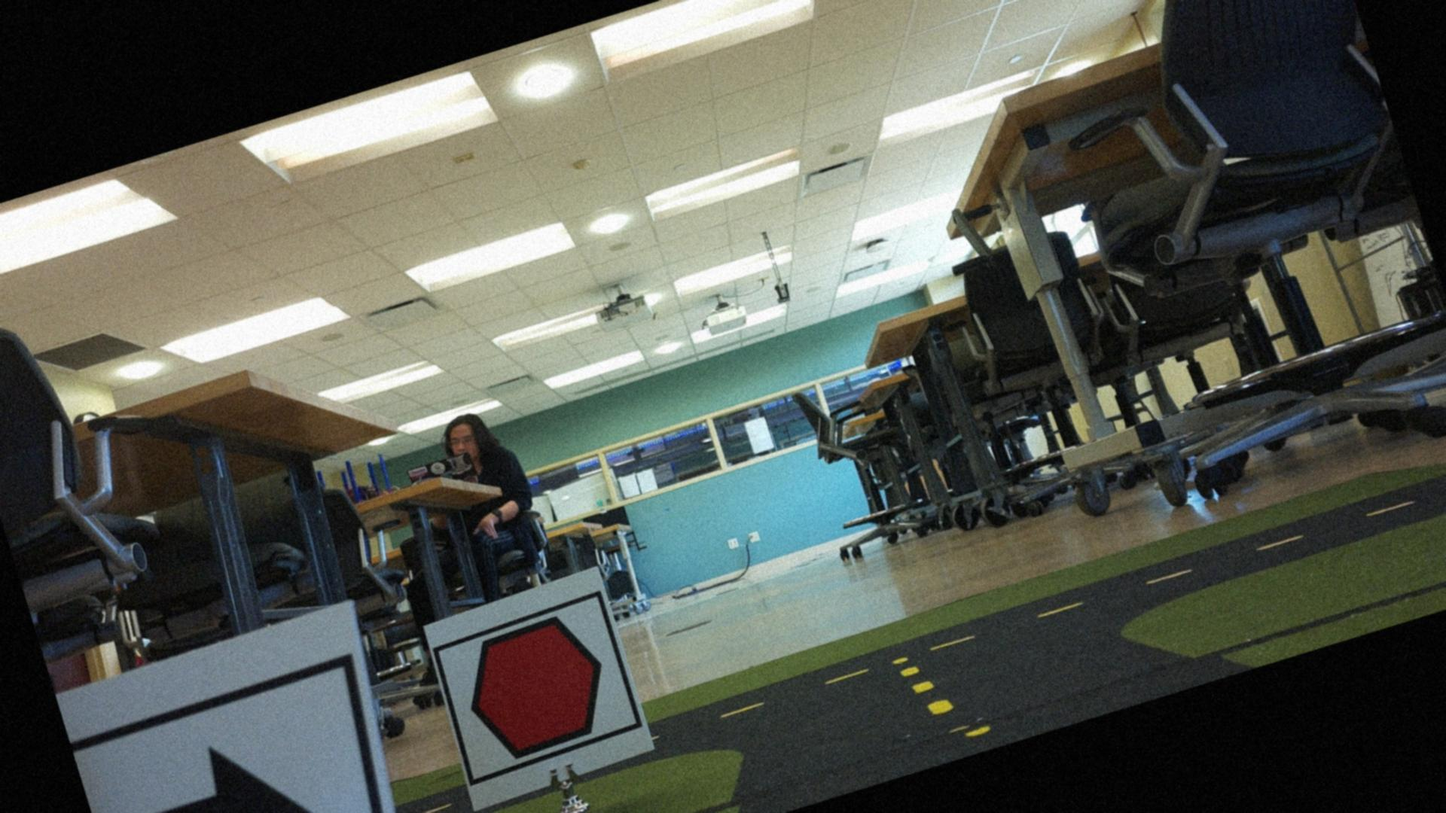stop: (433, 599, 643, 783)
turnright: (73, 674, 401, 812)
yellowline: (898, 654, 953, 724)
